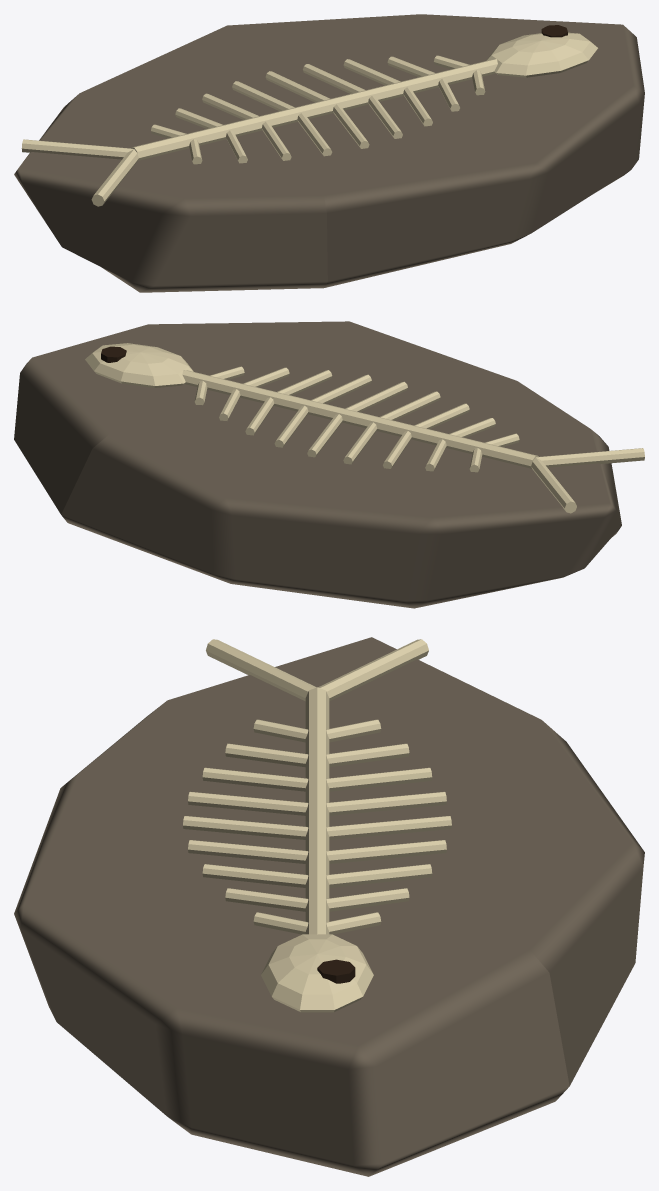
The model's file is FindFossil.glb.
3 views of the same model, one above another, from view 1: azimuth 30°, elevation 25°; view 2: azimuth 150°, elevation 25°; view 3: azimuth 270°, elevation 25° (orthographic). The views are drawn at different scales.
Parts seen in each view (by area): view 1: Fossil_5.001; view 2: Fossil_5.001; view 3: Fossil_5.001.
Part boxes in pixels (bbox=[...]): Fossil_5.001: bbox=[14, 14, 644, 292]; Fossil_5.001: bbox=[14, 321, 644, 608]; Fossil_5.001: bbox=[14, 637, 644, 1176].
Bounding box in the file's own units: 0.2079 × 0.036 × 0.1328.
